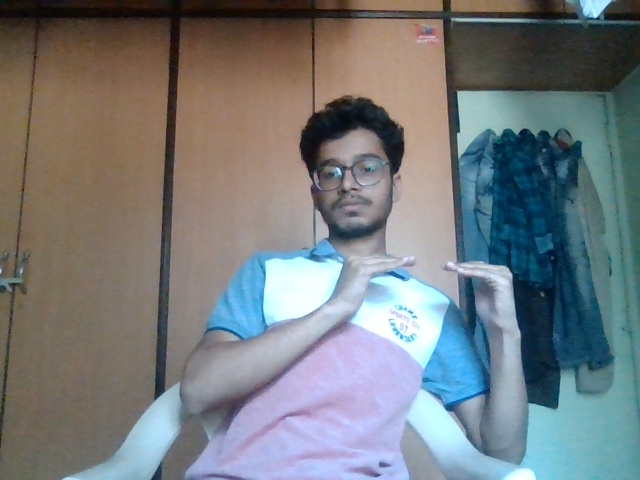afternoon: (308, 243, 535, 362)
